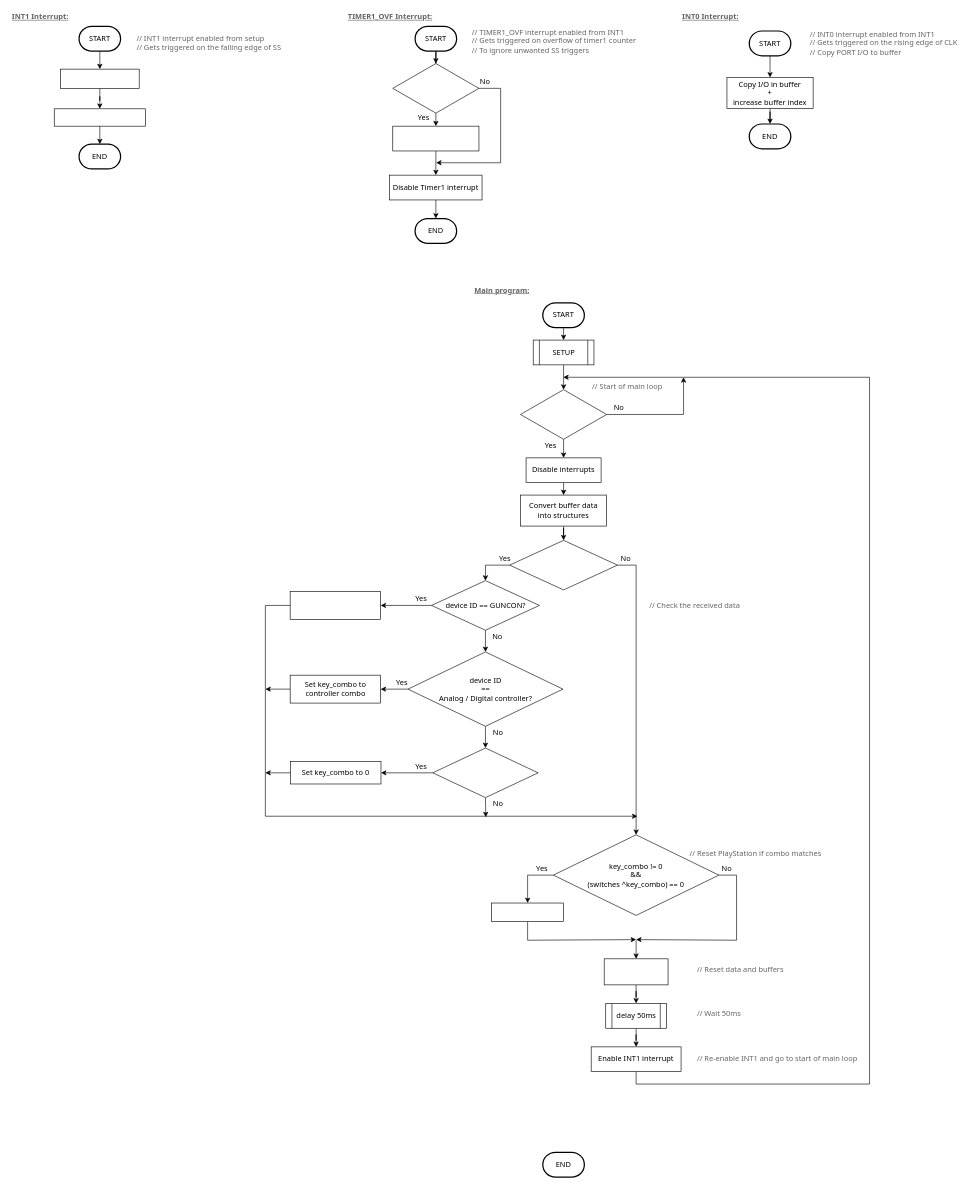
The diagram is 974 pixels wide and 1188 high, and some of its shapes have lost their labels. Each missing label, with the centre of its shape:
"buffer full ?" belongs at point (563, 414).
"Clear structures and buffers" belongs at point (636, 971).
"device ID == controller ?" belongs at point (563, 565).
"device ID unknown" belongs at point (485, 772).
"Enable INT0 interrupt" belongs at point (435, 138).
"Enable Timer1 interrupt" belongs at point (99, 117).
"Reset PlayStation" belongs at point (527, 912).
"Set key_combo to GUNCON combo" belongs at point (335, 605).
"Set Timer1 counter" belongs at point (99, 78).
"SS still low ?" belongs at point (435, 88).
